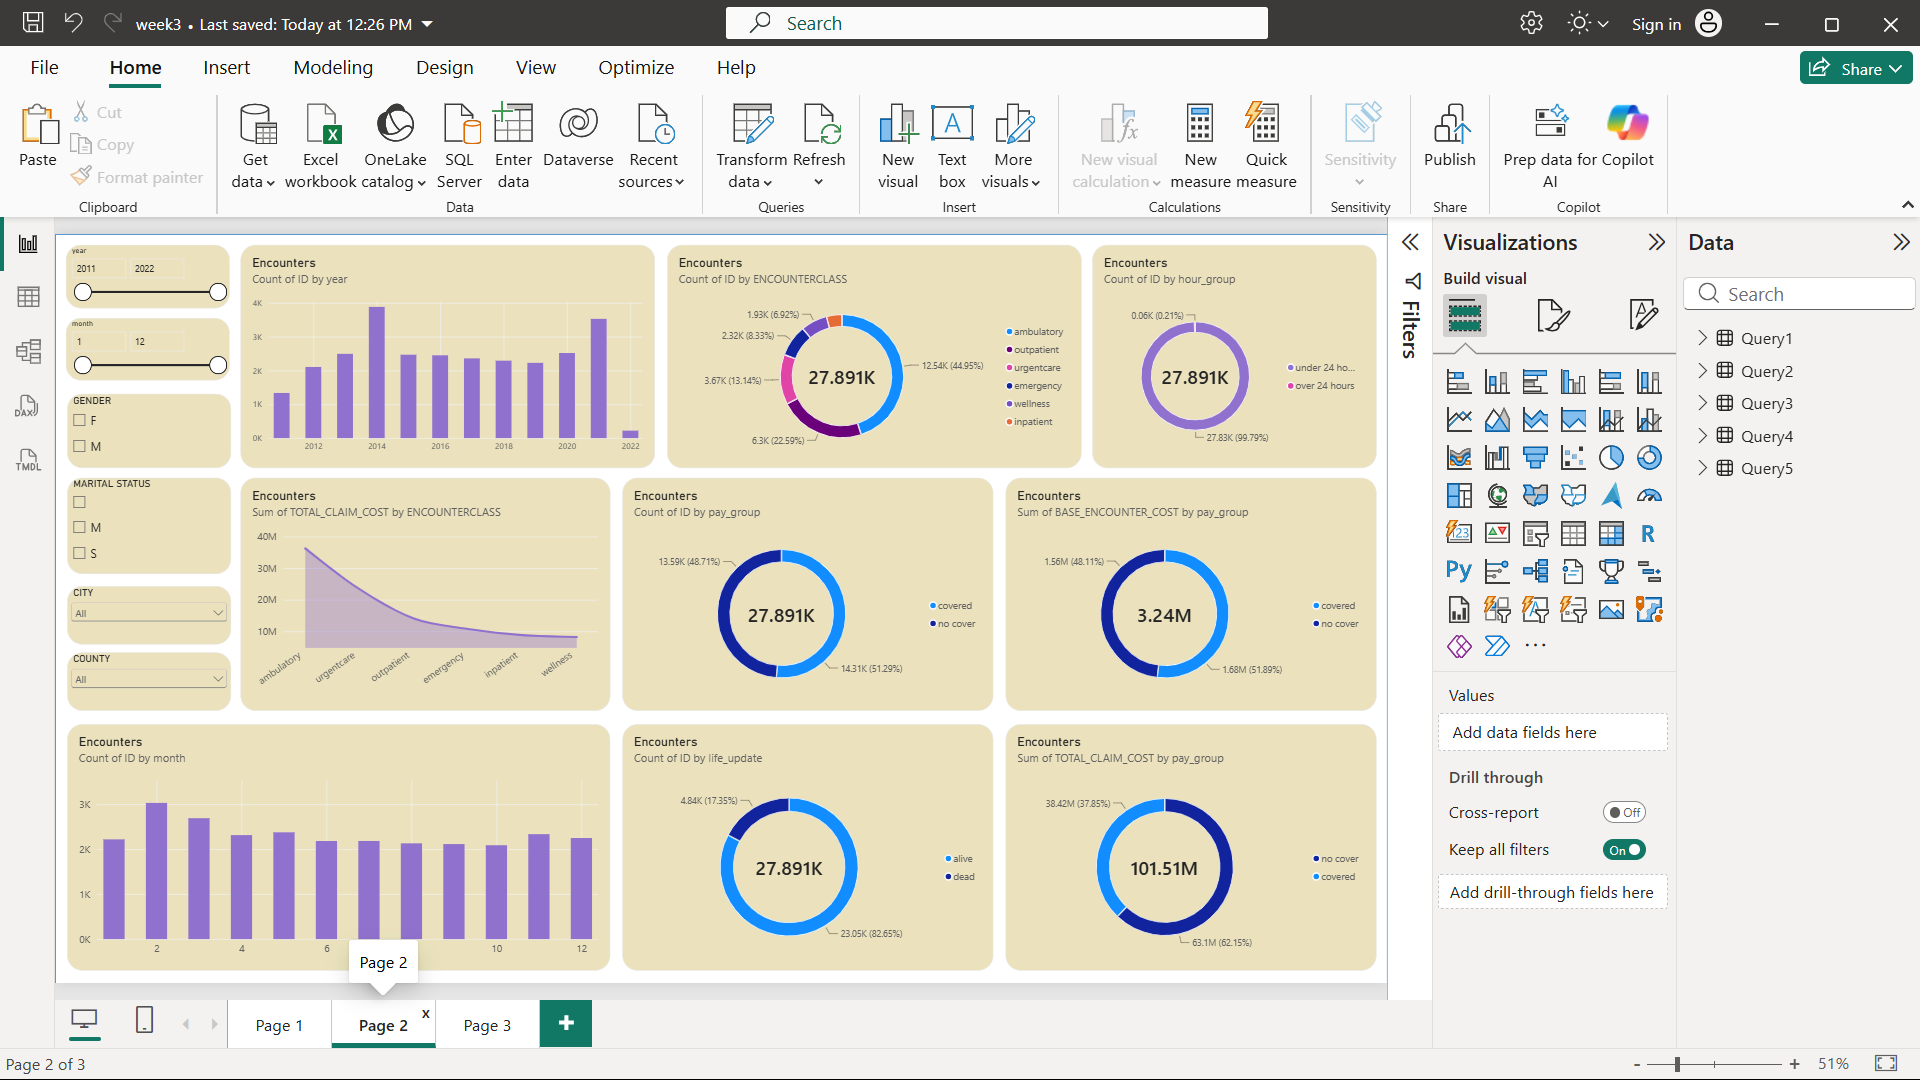

The dashboard page shown, as its layout file describes it:
{"tool":"powerbi","page":{"name":"Page 2","canvas":[1920,1080],"ordinal":1},"visuals":[{"type":"shape","box":[0,0,1920.9,1080.8],"z":0},{"type":"lineClusteredColumnComboChart","title":"Encounters","fields":{"Category":["Query4.year"],"Y":["CountNonNull(Query4.ID)"]},"box":[267.4,15.6,597.3,322.1],"z":1000},{"type":"slicer","title":"Encounters","fields":{"Values":["Query4.year"]},"box":[15.6,15.6,236.2,91.7],"z":2000},{"type":"slicer","title":"Encounters","fields":{"Values":["Query4.month"]},"box":[15.6,121,236.2,89.8],"z":3000},{"type":"donutChart","title":"Encounters","fields":{"Category":["Query4.ENCOUNTERCLASS"],"Y":["CountNonNull(Query4.ID)"]},"box":[882.3,15.6,597.3,322.1],"z":4000},{"type":"slicer","title":"Encounters","fields":{"Values":["Query4.GENDER"]},"box":[17.6,230.3,236.2,107.4],"z":5000},{"type":"donutChart","title":"Encounters","fields":{"Category":["Query4.hour_group"],"Y":["CountNonNull(Query4.ID)"]},"box":[1495.2,15.6,409.9,322.1],"z":6000},{"type":"areaChart","title":"Encounters","fields":{"Category":["Query4.ENCOUNTERCLASS"],"Y":["Sum(Query4.TOTAL_CLAIM_COST)"]},"box":[267.4,351.3,532.9,335.7],"z":7000},{"type":"donutChart","title":"Encounters","fields":{"Category":["Query4.pay_group"],"Y":["CountNonNull(Query4.ID)"]},"box":[817.9,351.3,534.8,335.7],"z":8000},{"type":"donutChart","title":"Encounters","fields":{"Category":["Query4.pay_group"],"Y":["Sum(Query4.BASE_ENCOUNTER_COST)"]},"box":[1370.3,351.3,534.8,335.7],"z":9000},{"type":"donutChart","title":"Encounters","fields":{"Category":["Query4.pay_group"],"Y":["Sum(Query4.TOTAL_CLAIM_COST)"]},"box":[1370.3,706.6,534.8,355.3],"z":10000},{"type":"slicer","title":"Encounters","fields":{"Values":["Query4.MARITAL"]},"box":[17.6,351.3,236.2,138.6],"z":11000},{"type":"slicer","title":"Encounters","fields":{"Values":["Query4.CITY"]},"box":[17.6,507.5,236.2,83.9],"z":12000},{"type":"slicer","title":"Encounters","fields":{"Values":["Query4.COUNTY"]},"box":[17.6,603.1,236.2,83.9],"z":13000},{"type":"donutChart","title":"Encounters","fields":{"Category":["Query4.life_update"],"Y":["CountNonNull(Query4.ID)"]},"box":[817.9,706.6,534.8,355.3],"z":14000},{"type":"lineClusteredColumnComboChart","title":"Encounters","fields":{"Category":["Query4.month"],"Y":["CountNonNull(Query4.ID)"]},"box":[17.6,706.6,782.7,355.3],"z":15000}]}

Visuals, with their boxes on the page's 1920x1080 design canvas (x1, y1, x2, y2). These are canvas units, not pixel positions in the 1920x1080 screenshot, which may show the page scaled, cropped or inside an application window:
shape: 0/0/1921/1081
"Encounters" lineClusteredColumnComboChart: 267/16/865/338
"Encounters" slicer: 16/16/252/107
"Encounters" slicer: 16/121/252/211
"Encounters" donutChart: 882/16/1480/338
"Encounters" slicer: 18/230/254/338
"Encounters" donutChart: 1495/16/1905/338
"Encounters" areaChart: 267/351/800/687
"Encounters" donutChart: 818/351/1353/687
"Encounters" donutChart: 1370/351/1905/687
"Encounters" donutChart: 1370/707/1905/1062
"Encounters" slicer: 18/351/254/490
"Encounters" slicer: 18/508/254/591
"Encounters" slicer: 18/603/254/687
"Encounters" donutChart: 818/707/1353/1062
"Encounters" lineClusteredColumnComboChart: 18/707/800/1062
